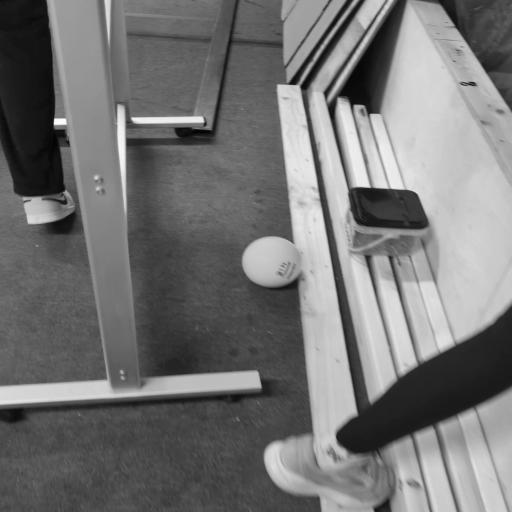fuel: (242, 237, 301, 288)
